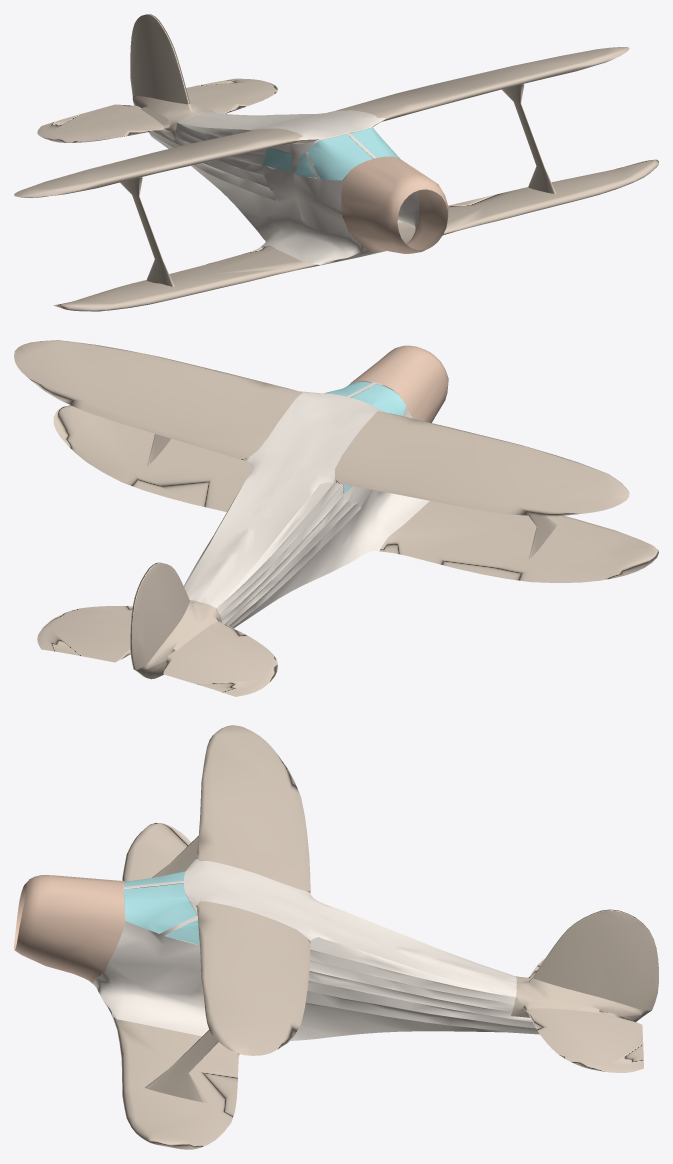
The model's file is biplane.glb.
The picture shows the model from 3 angles, top to bottom: view 1: azimuth 30°, elevation 25°; view 2: azimuth 150°, elevation 25°; view 3: azimuth 270°, elevation 25°; orthographic projection. The views are drawn at different scales.
Parts seen in each view (by area): view 1: wing, cabin, head, window; view 2: wing, cabin, head, window; view 3: wing, cabin, head, window.
Boxes of the visible parts, left/top/right/bottom form: wing: left=14, top=14, right=658, bottom=311; cabin: left=149, top=110, right=446, bottom=264; head: left=341, top=156, right=448, bottom=253; window: left=263, top=127, right=399, bottom=180; wing: left=14, top=340, right=658, bottom=696; cabin: left=183, top=380, right=429, bottom=628; head: left=351, top=345, right=448, bottom=422; window: left=324, top=382, right=406, bottom=493; wing: left=101, top=725, right=658, bottom=1149; cabin: left=93, top=858, right=539, bottom=1040; head: left=14, top=875, right=125, bottom=983; window: left=124, top=870, right=199, bottom=944.
Bounding box in the file's own units: 6434 × 1443 × 5350.
